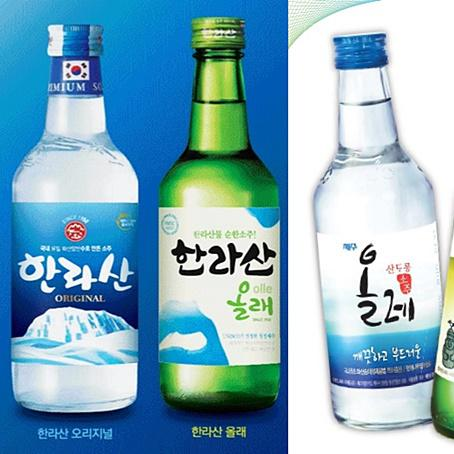soju: (9, 16, 282, 416), (309, 27, 449, 432)
